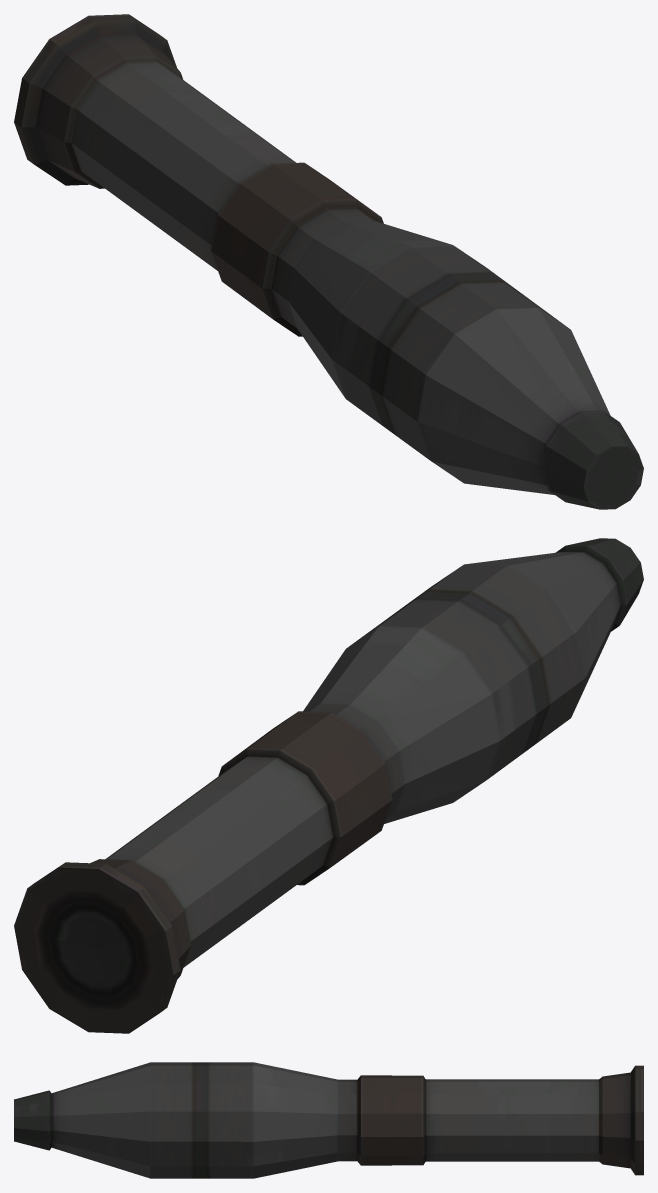
File: rocket.obj
The picture shows the model from 3 angles, top to bottom: view 1: azimuth 30°, elevation 25°; view 2: azimuth 150°, elevation 25°; view 3: azimuth 270°, elevation 25°; orthographic projection. The views are drawn at different scales.
Visible parts, largest first — view 1: w_rocket_reference; view 2: w_rocket_reference; view 3: w_rocket_reference.
Boxes of the visible parts, x1=… form: w_rocket_reference: x1=14, y1=14, x2=643, y2=509; w_rocket_reference: x1=14, y1=538, x2=643, y2=1033; w_rocket_reference: x1=14, y1=1062, x2=643, y2=1178.
Size of the model in its own units: 6.83 by 6.83 by 36.64.
Materials: 1 (1 with a texture image).
